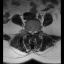CCS_severe_stenosis: (32, 30, 33, 36)
LFS_normal: (35, 28, 37, 34)
LLS_normal: (33, 29, 35, 36)
RFS_normal: (28, 28, 30, 34)
RLS_normal: (30, 29, 32, 35)
